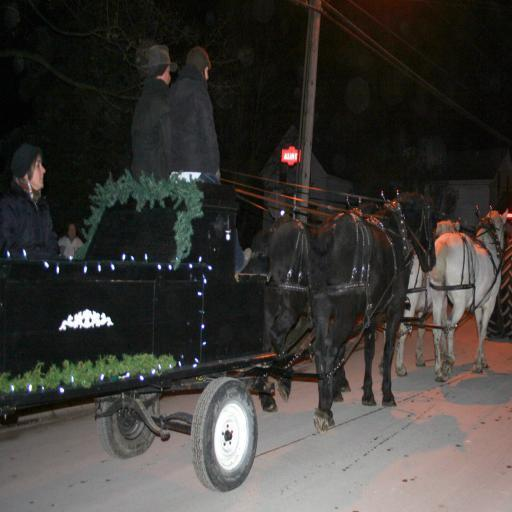horse: (306, 180, 438, 435), (256, 200, 386, 414), (426, 206, 510, 384), (378, 218, 460, 378)
